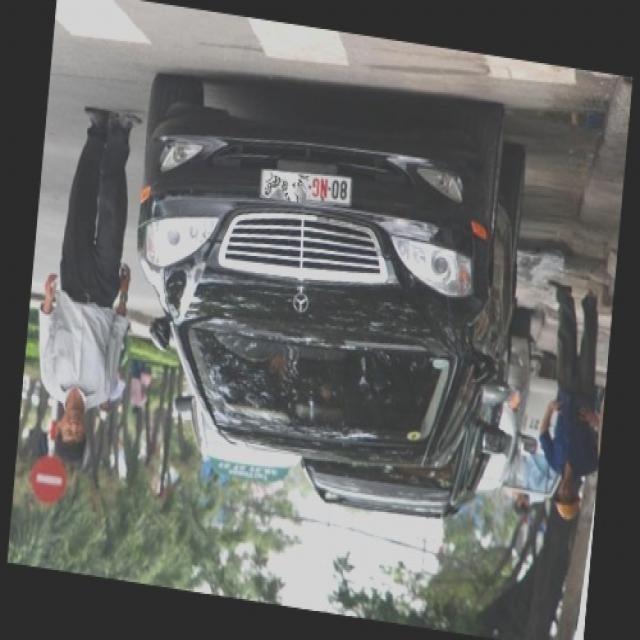bien_ngoai_giao: (257, 165, 352, 209)
